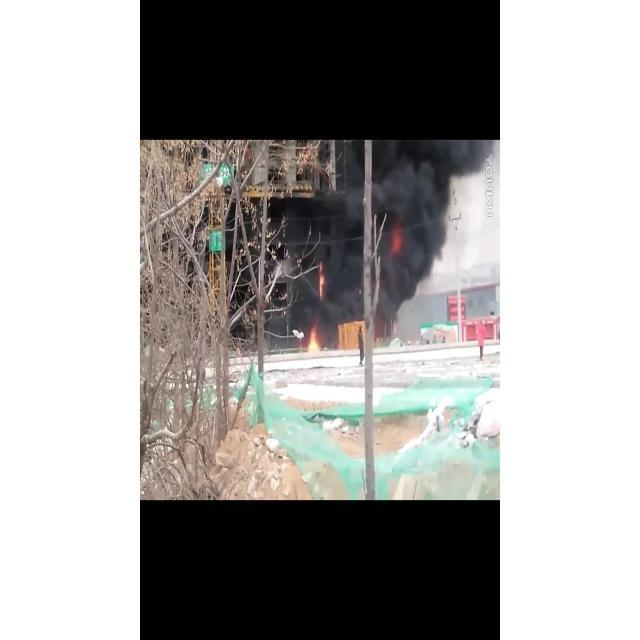Fire: (391, 218, 404, 258), (306, 322, 321, 352), (318, 262, 326, 299)
Smoke: (267, 193, 365, 352), (372, 142, 448, 328), (345, 140, 493, 176), (336, 138, 364, 230)
